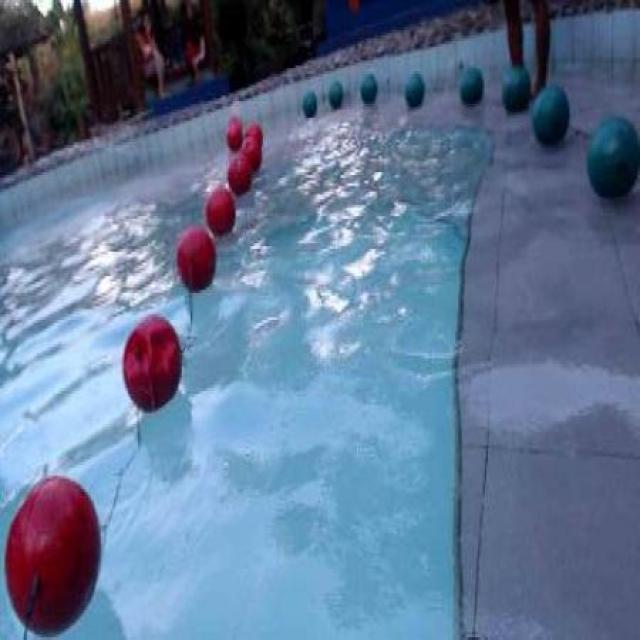buoy: (2, 473, 103, 638), (119, 314, 183, 414), (586, 118, 639, 199), (175, 223, 216, 292), (532, 84, 570, 146), (204, 184, 235, 237), (502, 66, 532, 110), (224, 152, 252, 192), (458, 67, 484, 108), (404, 70, 424, 105), (358, 72, 377, 102), (328, 80, 343, 106), (302, 92, 316, 116)
